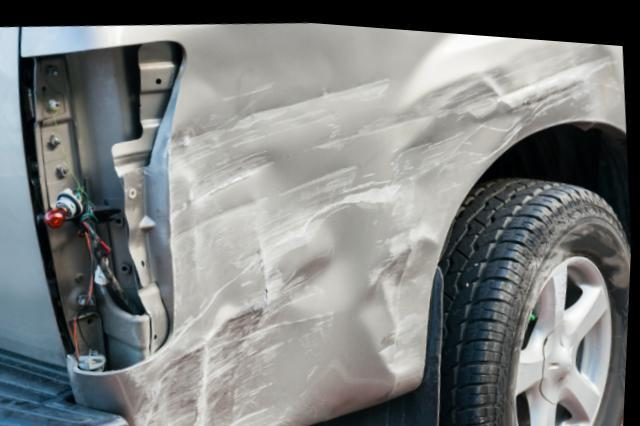dent: (122, 18, 621, 426)
lamp broken: (26, 38, 186, 373)
